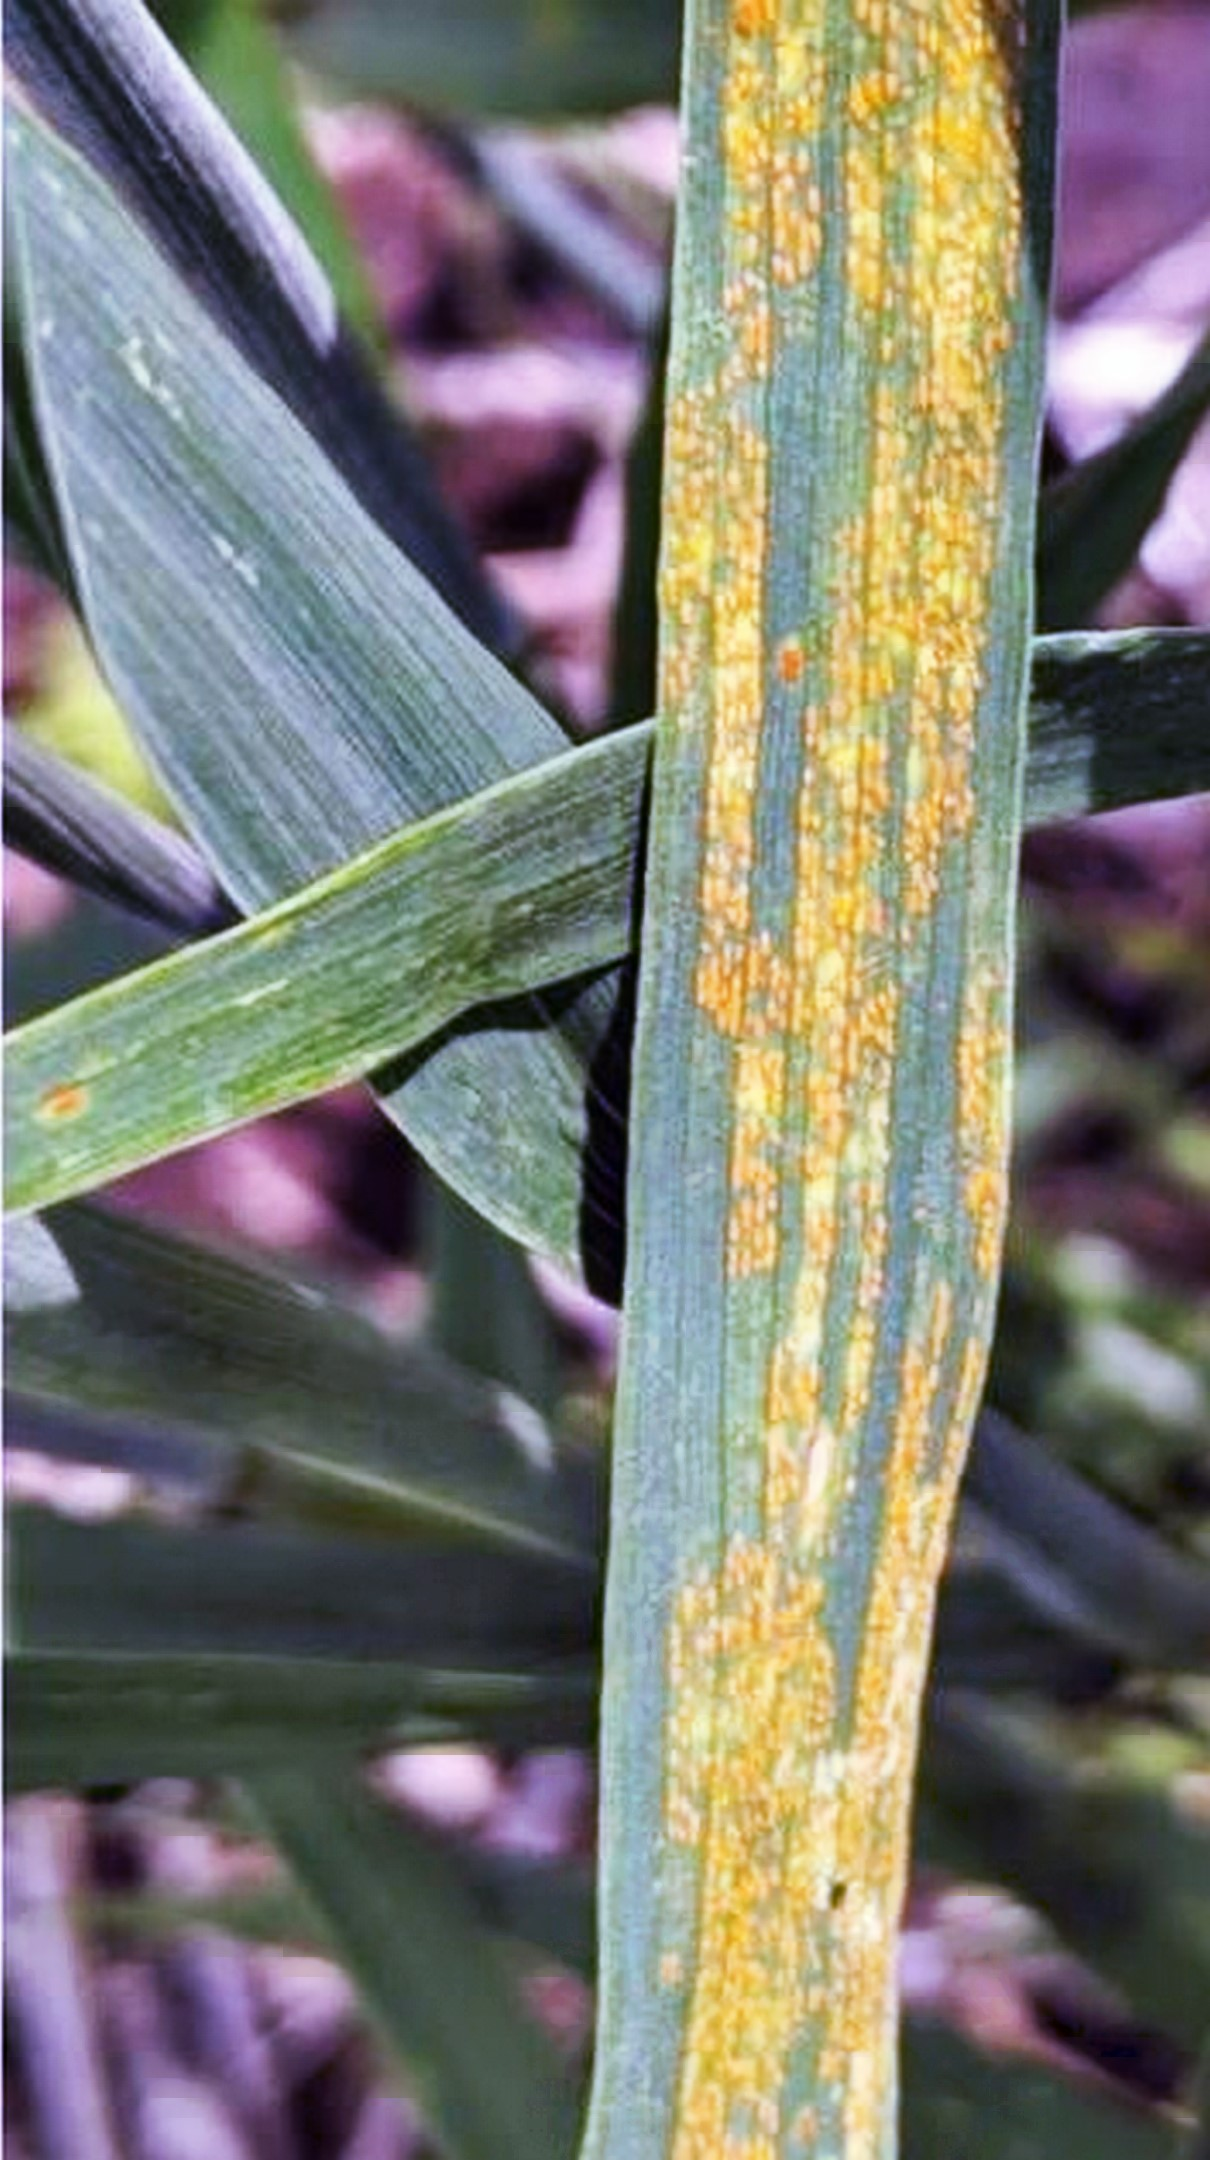Leaf Rust: (589, 27, 1032, 2090)
